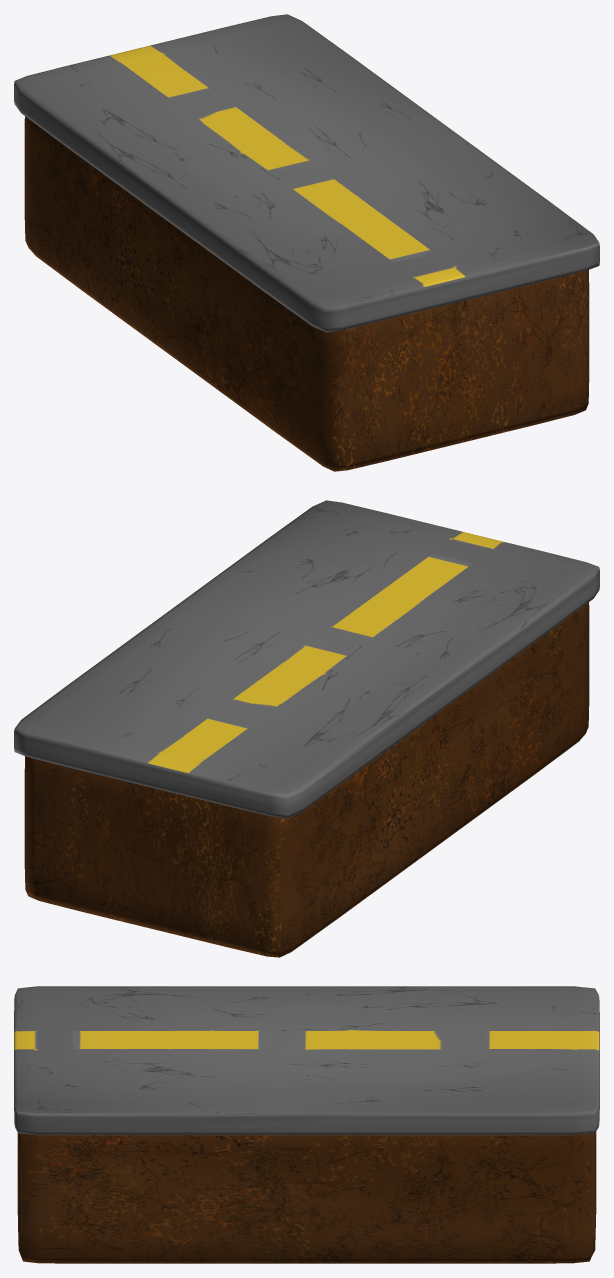
The model's file is kalsada.fbx.
3 renders of one model, top to bottom at view 1: azimuth 30°, elevation 25°; view 2: azimuth 150°, elevation 25°; view 3: azimuth 270°, elevation 25°, orthographic. The views are drawn at different scales.
Parts seen in each view (by area): view 1: Cube; view 2: Cube; view 3: Cube.
Boxes of the visible parts, x1,y1,x2,y2 form: Cube: (14, 14, 599, 471); Cube: (14, 500, 599, 957); Cube: (14, 986, 599, 1263).
Bounding box in the file's own units: 241 × 140 × 465.
Materials: 2 (2 with a texture image).
